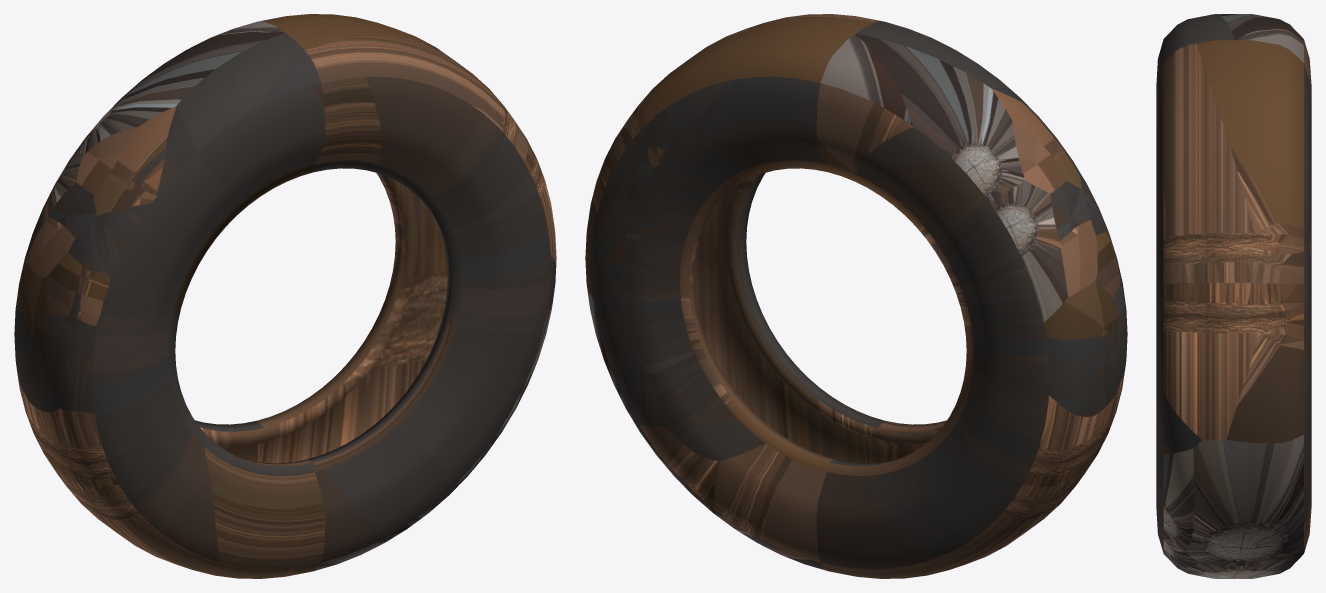
Rendered from Tire.fbx.
3 renders of one model, left to right at view 1: azimuth 30°, elevation 25°; view 2: azimuth 150°, elevation 25°; view 3: azimuth 270°, elevation 25°, orthographic. The views are drawn at different scales.
Parts seen in each view (by area): view 1: old_tyre_0; view 2: old_tyre_0; view 3: old_tyre_0.
Part boxes in pixels (x1,y1,x2,y2): old_tyre_0: (14, 14, 556, 578); old_tyre_0: (585, 14, 1127, 578); old_tyre_0: (1156, 14, 1311, 578).
Bounding box in the file's own units: 1167 × 1167 × 321.
